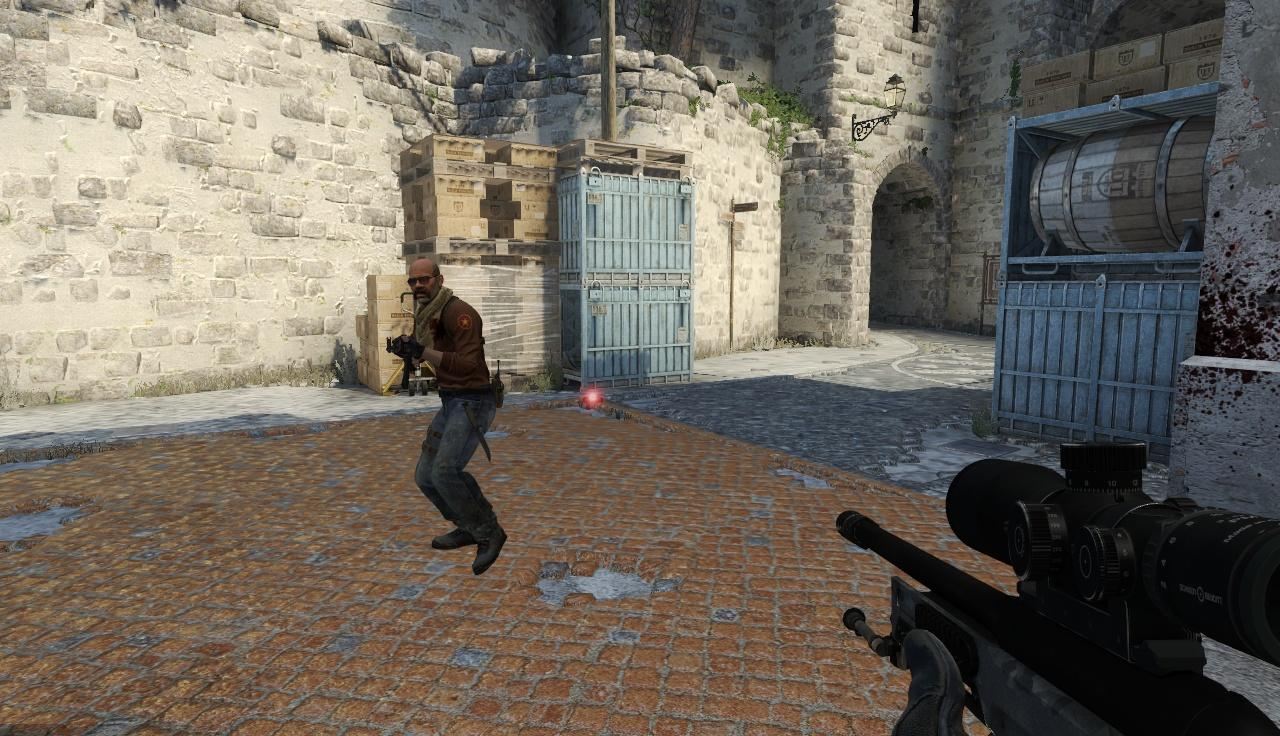sniper: (840, 438, 1280, 732)
tt: (410, 258, 502, 561)
tthead: (411, 259, 442, 304)
